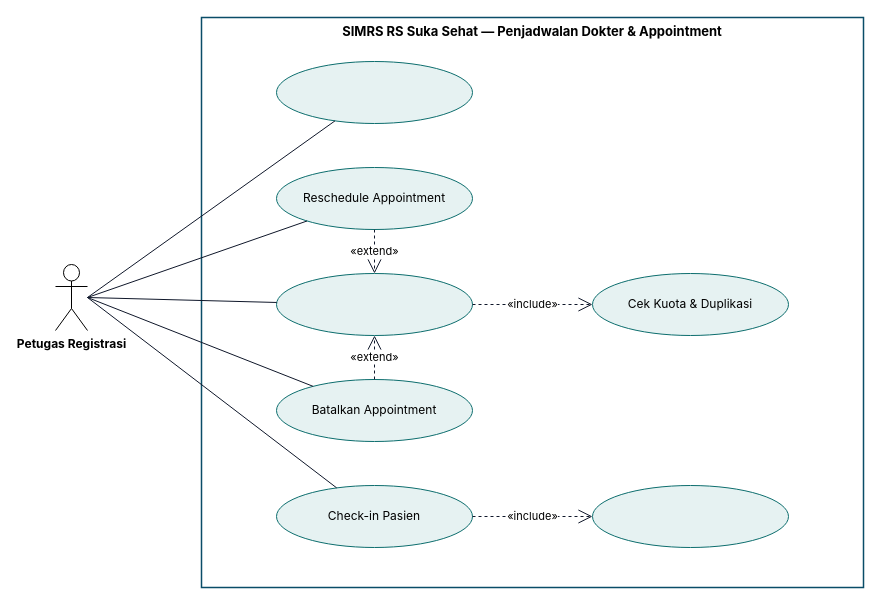
Image size: 882x606. Some labels were removed from this diagram. Each missing label, with the centre of its shape:
Buat Appointment: pixel 374 304
Buat Kunjungan & Antrean: pixel 690 516
Kelola Jadwal Dokter: pixel 374 92
